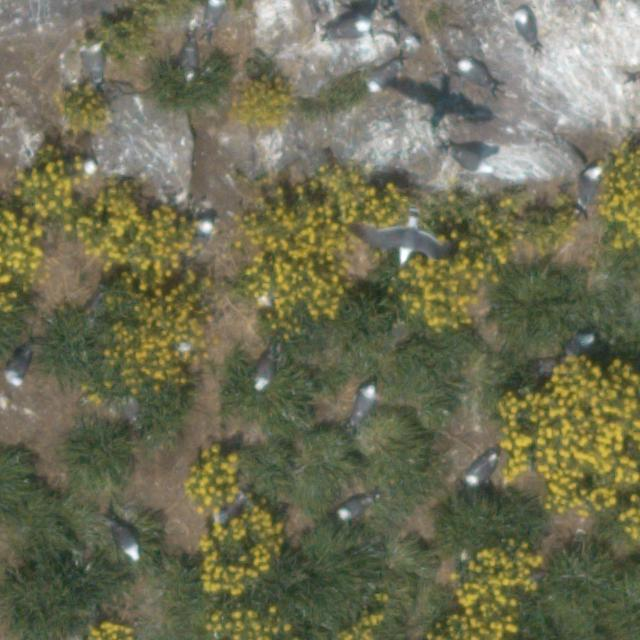F: (372, 220, 443, 262)
umineko: (448, 150, 488, 172), (579, 168, 600, 207), (115, 527, 140, 559), (368, 63, 397, 90), (354, 385, 376, 419), (8, 352, 31, 383), (468, 457, 493, 485), (86, 44, 104, 82), (256, 356, 277, 388), (460, 59, 488, 83), (565, 332, 594, 354), (338, 498, 368, 518), (332, 20, 366, 37), (184, 41, 198, 76), (518, 13, 534, 43), (208, 0, 225, 27), (195, 220, 212, 246)
